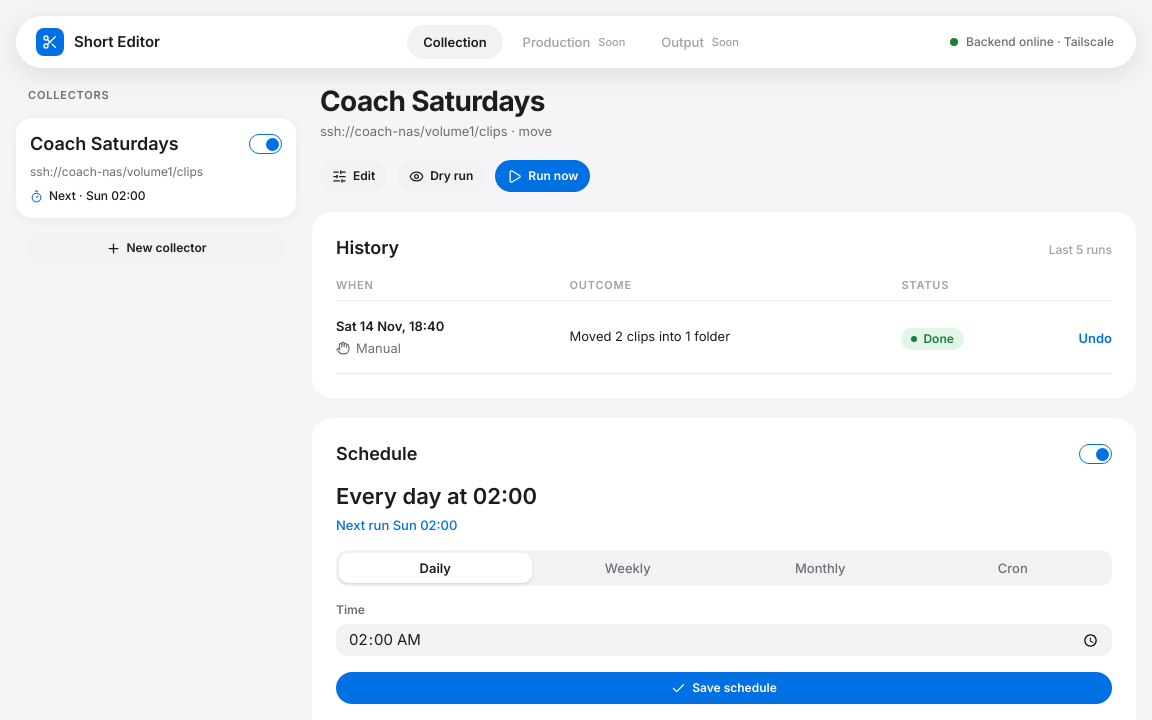
Test: App › shows an error when Undo fails
This screenshot has width=1152, height=720.
Step 1. Click the button "Undo" → (1095, 338), box [1078,329,1112,347]
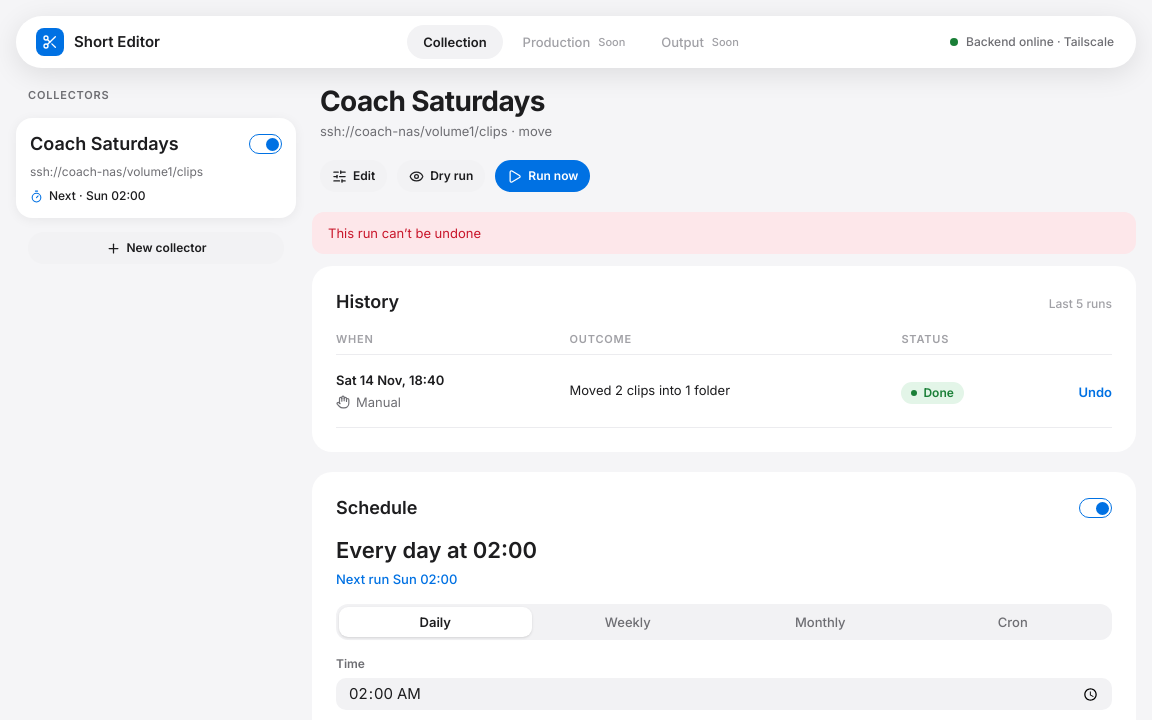
Check: the text "This run can’t be undone" is shown, box [312,212,1136,254]
